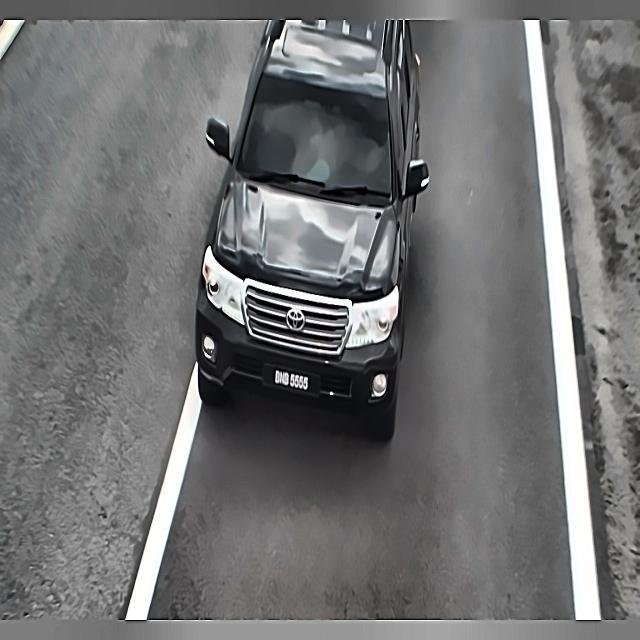car: (264, 364, 318, 398)
